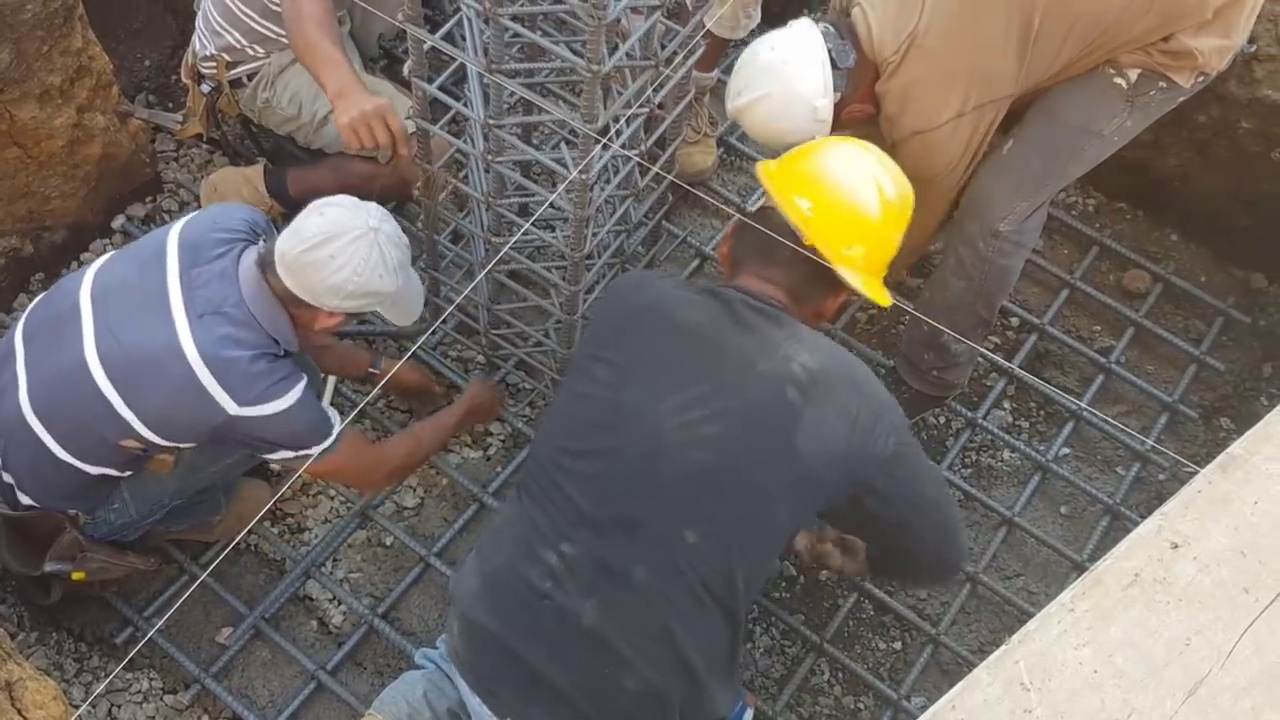helmet: (758, 135, 912, 315), (721, 15, 837, 153)
helmet-off: (253, 192, 419, 364)
helmet-on: (709, 134, 913, 324), (720, 0, 886, 147)
person: (364, 133, 969, 717), (717, 0, 1267, 429), (4, 191, 509, 586), (172, 4, 427, 164)
